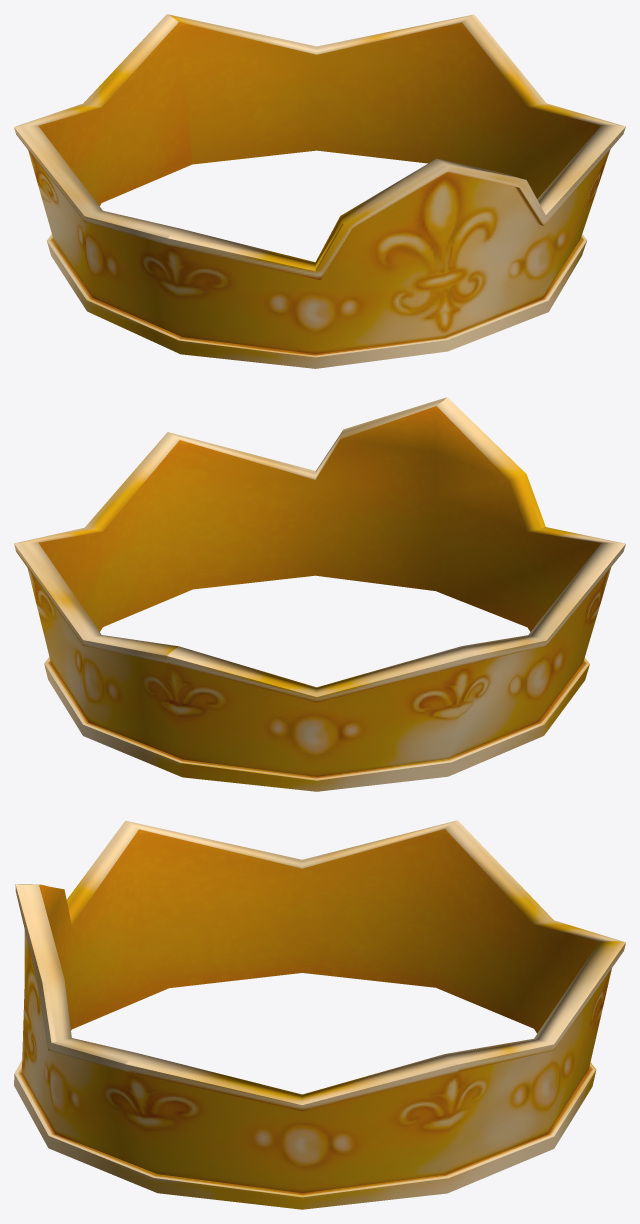
File: corona_0017.fbx
The picture shows the model from 3 angles, top to bottom: view 1: azimuth 30°, elevation 25°; view 2: azimuth 150°, elevation 25°; view 3: azimuth 270°, elevation 25°; orthographic projection. The views are drawn at different scales.
Visible parts, largest first — view 1: corona_0017; view 2: corona_0017; view 3: corona_0017.
Boxes of the visible parts, x1,y1,x2,y2 form: corona_0017: (14, 14, 625, 368); corona_0017: (14, 397, 625, 791); corona_0017: (14, 820, 625, 1209).
Size of the model in its own units: 16.11 by 6.21 by 16.96.
